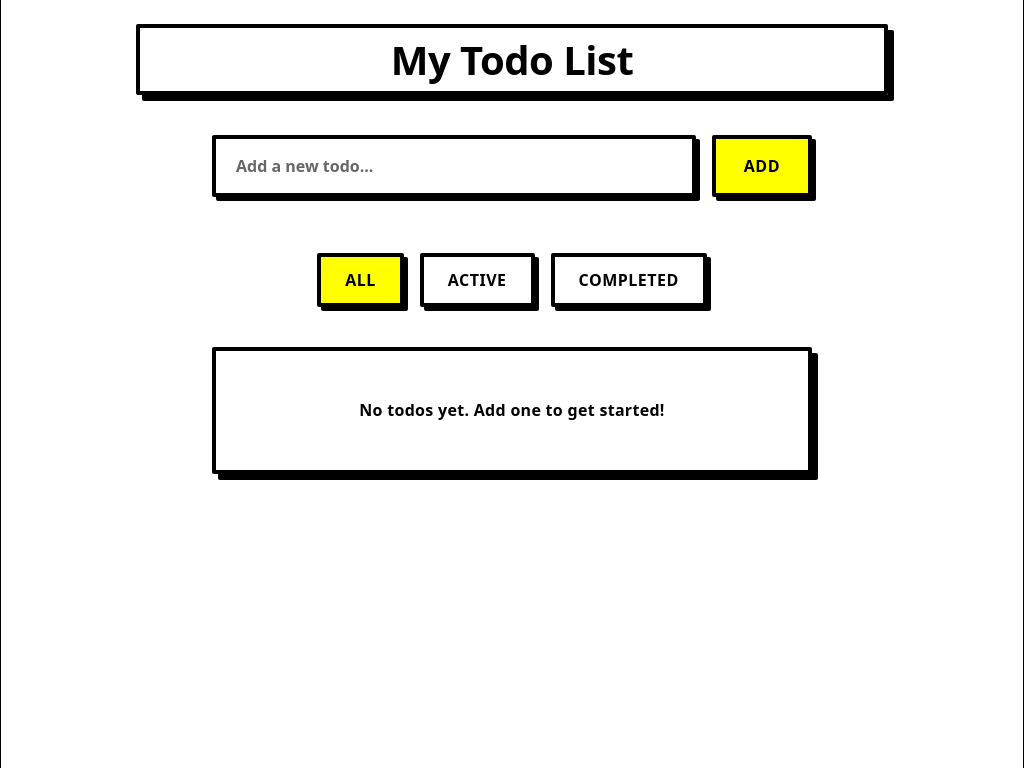
App Component Integration › adds a new todo when user submits form
This screenshot has width=1024, height=768.
Type "Buy groceries" into the field named "Add new todo" at [454, 166], box [212,135,696,197]
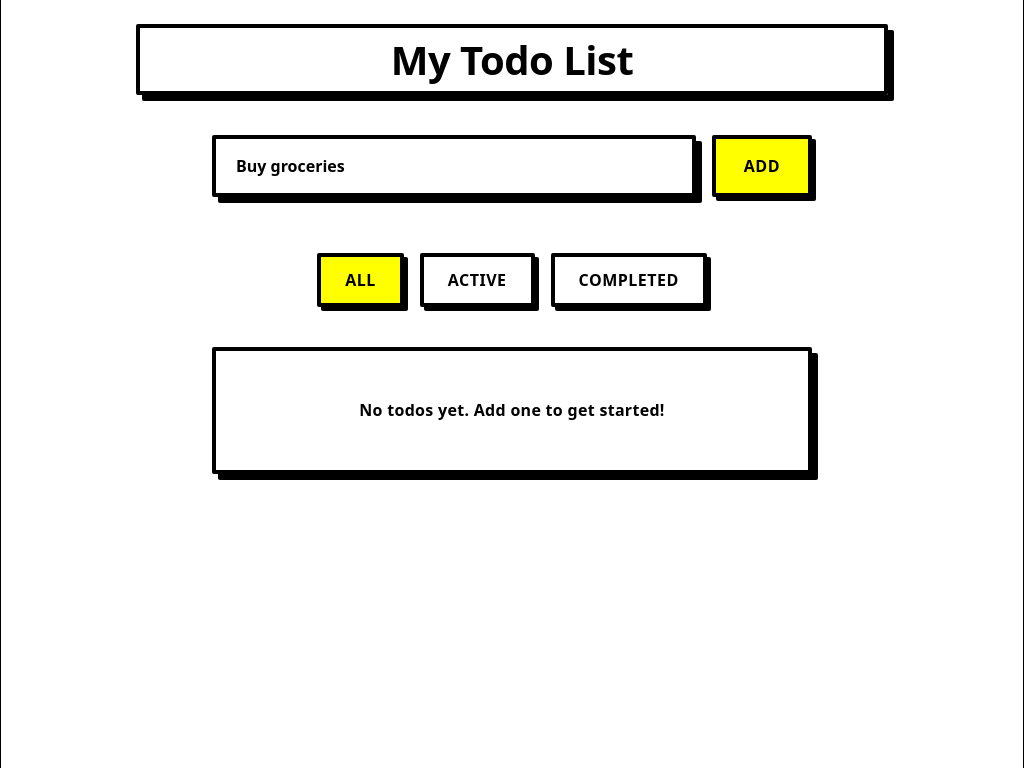
Click the button with aria-label "Add todo button" at [762, 166], box [712,135,812,197]
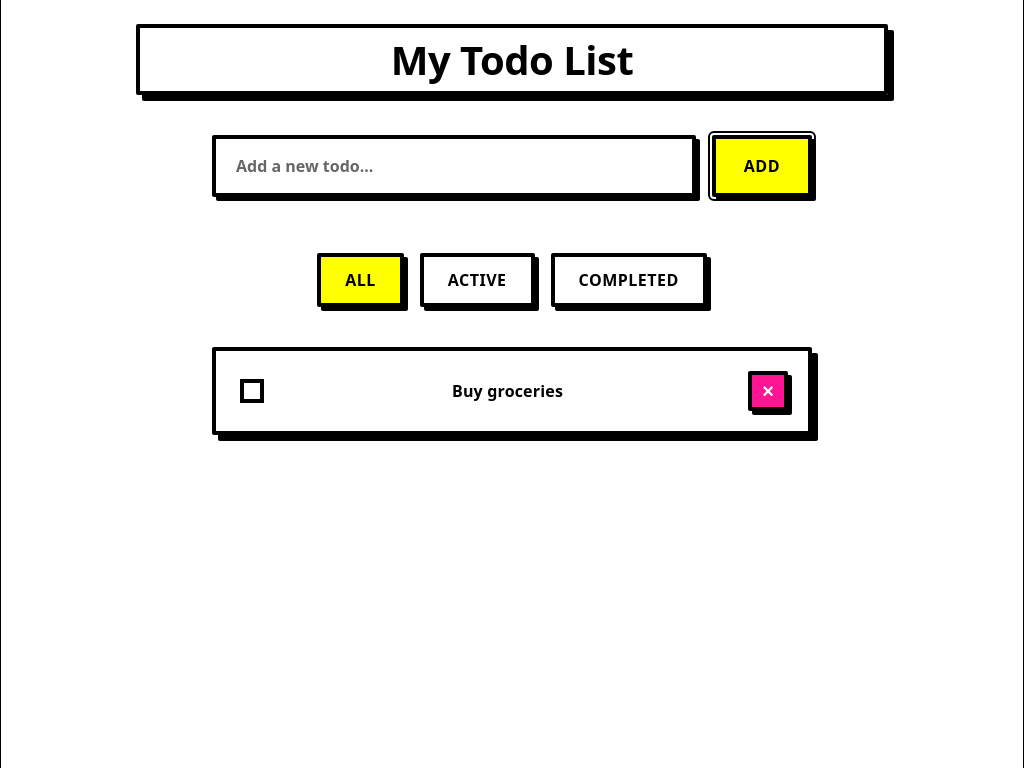
Now the text "Buy groceries" is shown, box [452,380,563,402]
Now the field named "Add new todo" is empty, box [212,135,696,197]
